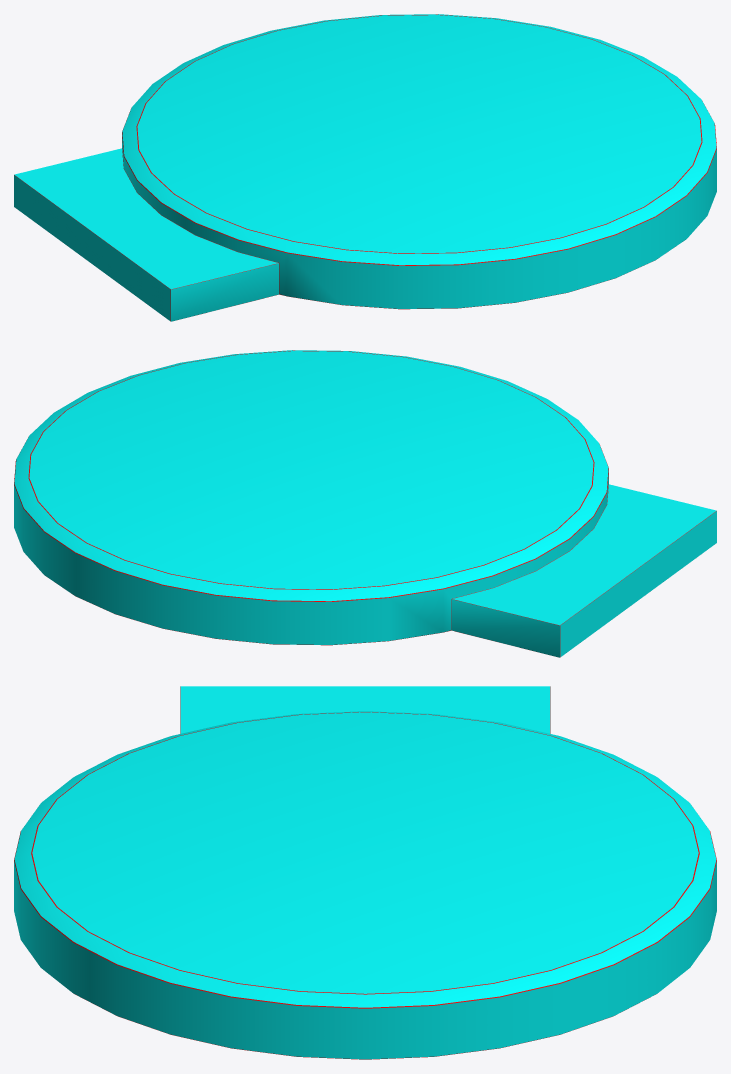
The model's file is L15_PS1_Top.fbx.
3 renders of one model, top to bottom at view 1: azimuth 30°, elevation 25°; view 2: azimuth 150°, elevation 25°; view 3: azimuth 270°, elevation 25°, orthographic. The views are drawn at different scales.
Parts seen in each view (by area): view 1: L15_PS1_Top; view 2: L15_PS1_Top; view 3: L15_PS1_Top.
Boxes of the visible parts, box(x1,y1,x2,y2) form: L15_PS1_Top: box(14, 14, 716, 321); L15_PS1_Top: box(14, 350, 716, 657); L15_PS1_Top: box(14, 686, 716, 1059).
Size of the model in its own units: 6800 by 560 by 6000.
